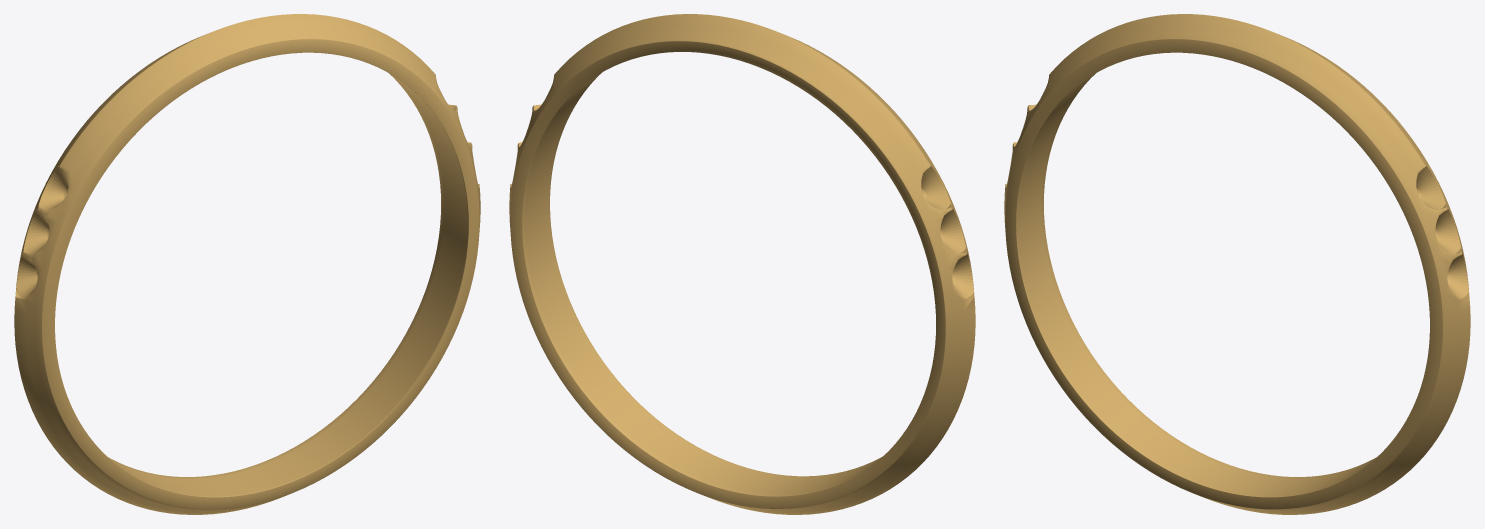
Rendered from knife-edge-flush-accents-wide.glb.
3 renders of one model, left to right at view 1: azimuth 30°, elevation 25°; view 2: azimuth 150°, elevation 25°; view 3: azimuth 330°, elevation 25°, orthographic.
Visible parts, largest first — view 1: Band; view 2: Band; view 3: Band.
Part boxes in pixels (bbox=[...]): Band: bbox=[14, 14, 480, 514]; Band: bbox=[509, 14, 975, 514]; Band: bbox=[1004, 14, 1470, 514].
Size of the model in its own units: 19.6 by 19.6 by 2.1.
